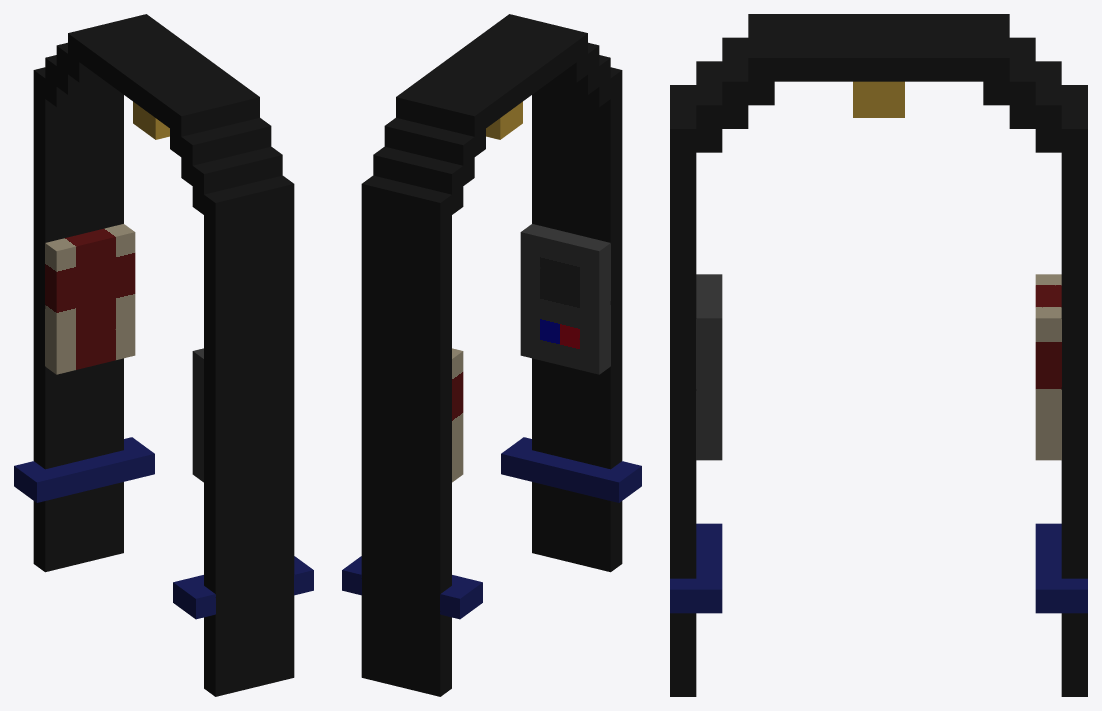
The model's file is ArchBlue.fbx.
3 views of the same model, side by side, from view 1: azimuth 30°, elevation 25°; view 2: azimuth 150°, elevation 25°; view 3: azimuth 270°, elevation 25° (orthographic). The views are drawn at different scales.
Parts seen in each view (by area): view 1: Matrix; view 2: Matrix; view 3: Matrix.
Part boxes in pixels (x1,y1,x2,y2): Matrix: (14, 14, 313, 696); Matrix: (342, 14, 641, 696); Matrix: (670, 14, 1087, 696).
Size of the model in its own units: 6 by 27 by 16.
